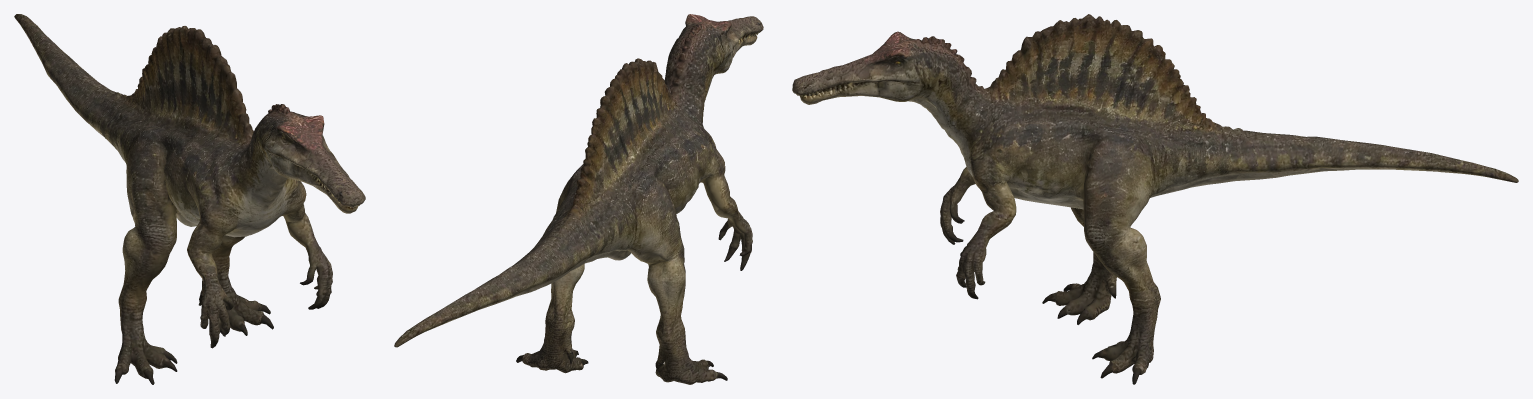
Rendered from spinosaurus.glb.
3 renders of one model, left to right at view 1: azimuth 30°, elevation 25°; view 2: azimuth 150°, elevation 25°; view 3: azimuth 270°, elevation 25°, orthographic. The views are drawn at different scales.
Parts seen in each view (by area): view 1: dino; view 2: dino; view 3: dino.
Part boxes in pixels (box(x1,y1,x2,y2)): dino: box(14, 14, 365, 384); dino: box(394, 14, 763, 384); dino: box(792, 14, 1518, 384).
Bounding box in the file's own units: 4.23 × 6.91 × 14.
1 material, 1 textured.
